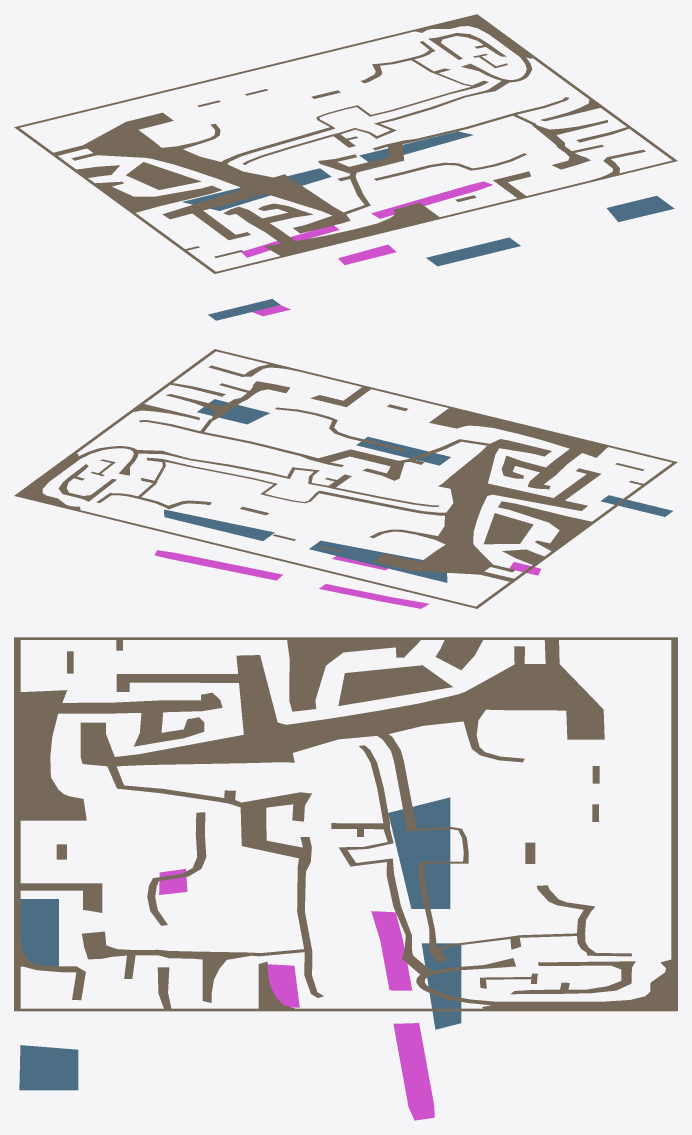
3 renders of one model, top to bottom at view 1: azimuth 30°, elevation 25°; view 2: azimuth 150°, elevation 25°; view 3: azimuth 270°, elevation 25°, orthographic. The views are drawn at different scales.
Visible parts, largest first — view 1: ground, water, ground_bounds, no-oxygen; view 2: ground, water, ground_bounds, no-oxygen; view 3: ground, water, ground_bounds, no-oxygen.
Boxes of the visible parts, box(x1,y1,x2,y2) form: ground: box(50, 15, 645, 257); water: box(182, 131, 674, 320); ground_bounds: box(14, 14, 677, 273); no-oxygen: box(241, 181, 492, 316); ground: box(19, 364, 644, 581); water: box(164, 399, 672, 582); ground_bounds: box(14, 349, 677, 608); no-oxygen: box(155, 550, 540, 608); ground: box(17, 637, 673, 1009); water: box(19, 797, 461, 1090); ground_bounds: box(14, 637, 677, 1011); no-oxygen: box(159, 869, 434, 1120).
Size of the model in its own units: 10 by 7.5 by 2.
